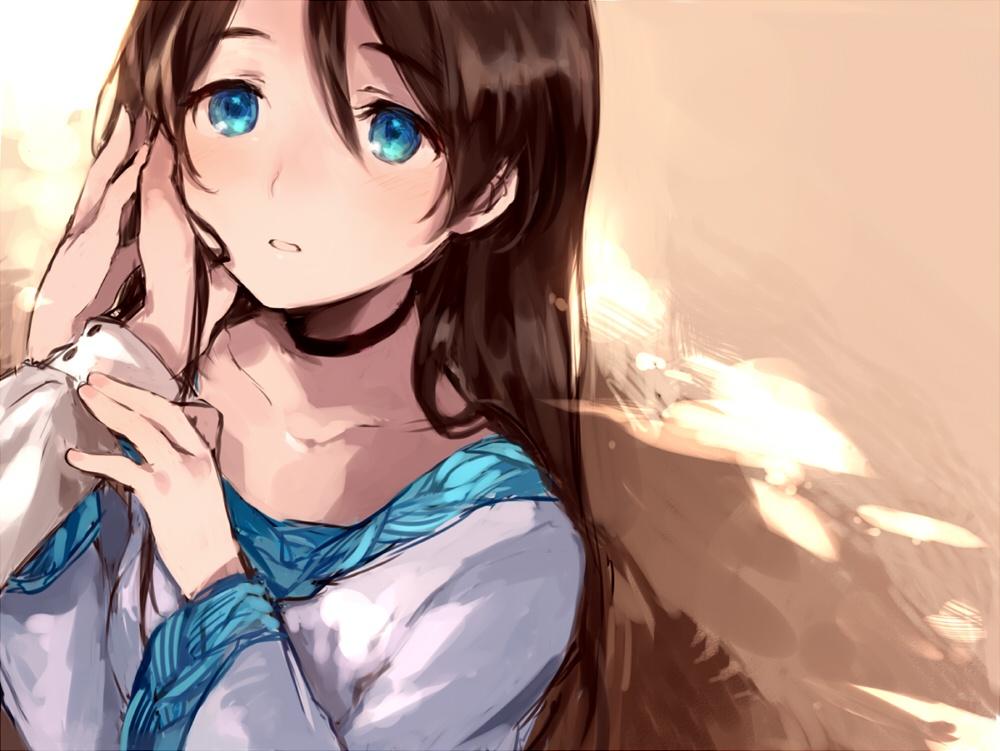纸片人正脸: (99, 0, 568, 316)
